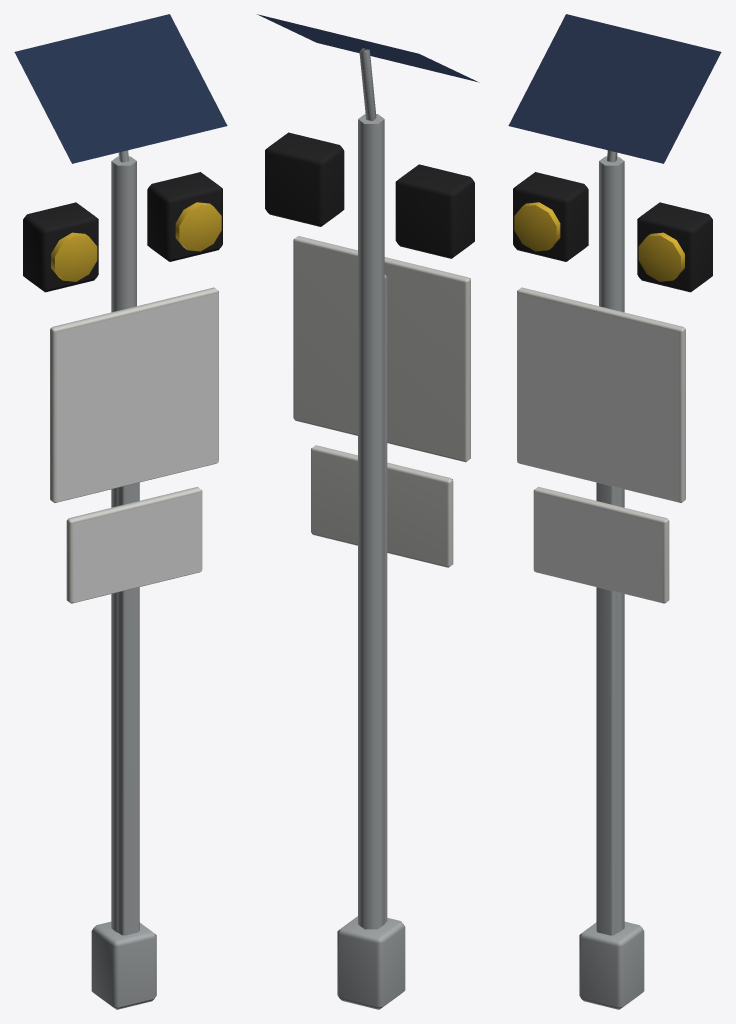
The model's file is SchoolZoneFL.fbx.
3 renders of one model, left to right at view 1: azimuth 30°, elevation 25°; view 2: azimuth 150°, elevation 25°; view 3: azimuth 330°, elevation 25°, orthographic. The views are drawn at different scales.
Parts seen in each view (by area): view 1: SchoolZoneFL; view 2: SchoolZoneFL; view 3: SchoolZoneFL.
Boxes of the visible parts, bbox=[...] form: SchoolZoneFL: bbox=[14, 14, 227, 1009]; SchoolZoneFL: bbox=[257, 14, 479, 1009]; SchoolZoneFL: bbox=[508, 14, 721, 1009].
Bounding box in the file's own units: 0.82 × 4.05 × 0.45.
